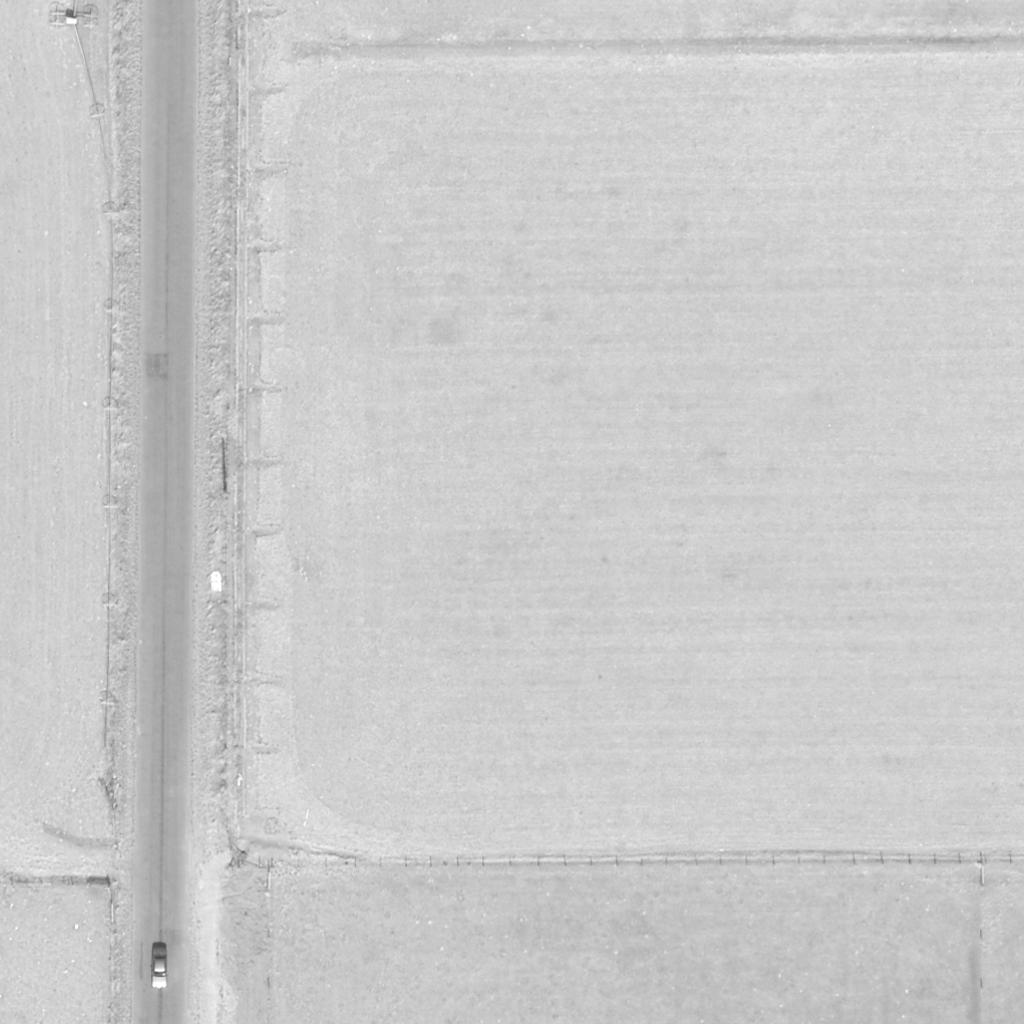vehicle: (150, 943, 168, 989)
